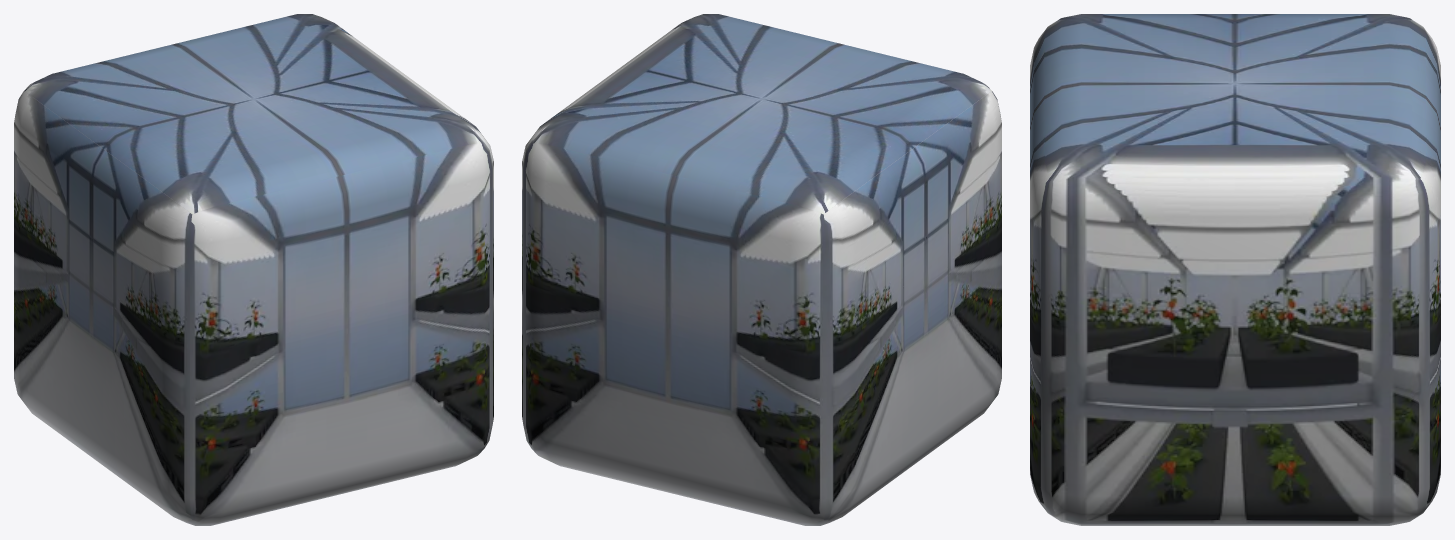
Rendered from new-oneside-transformed.glb.
3 views of the same model, side by side, from view 1: azimuth 30°, elevation 25°; view 2: azimuth 150°, elevation 25°; view 3: azimuth 270°, elevation 25° (orthographic). The views are drawn at different scales.
Visible parts, largest first — view 1: oneside-bg-5; view 2: oneside-bg-5; view 3: oneside-bg-5.
Part boxes in pixels (x1,y1,x2,y2): oneside-bg-5: (14,14,493,525); oneside-bg-5: (522,14,1001,525); oneside-bg-5: (1030,14,1440,525).
Bounding box in the file's own units: 200 × 200 × 200.
1 material, 1 textured.
